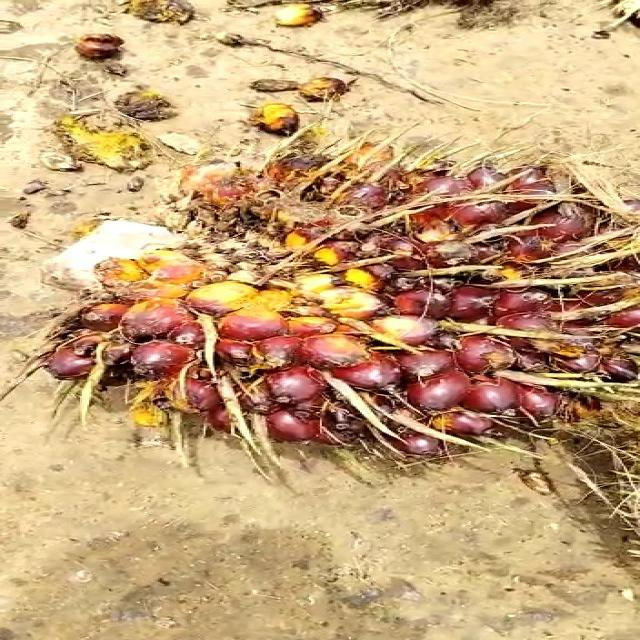palm oil: (37, 102, 640, 521)
